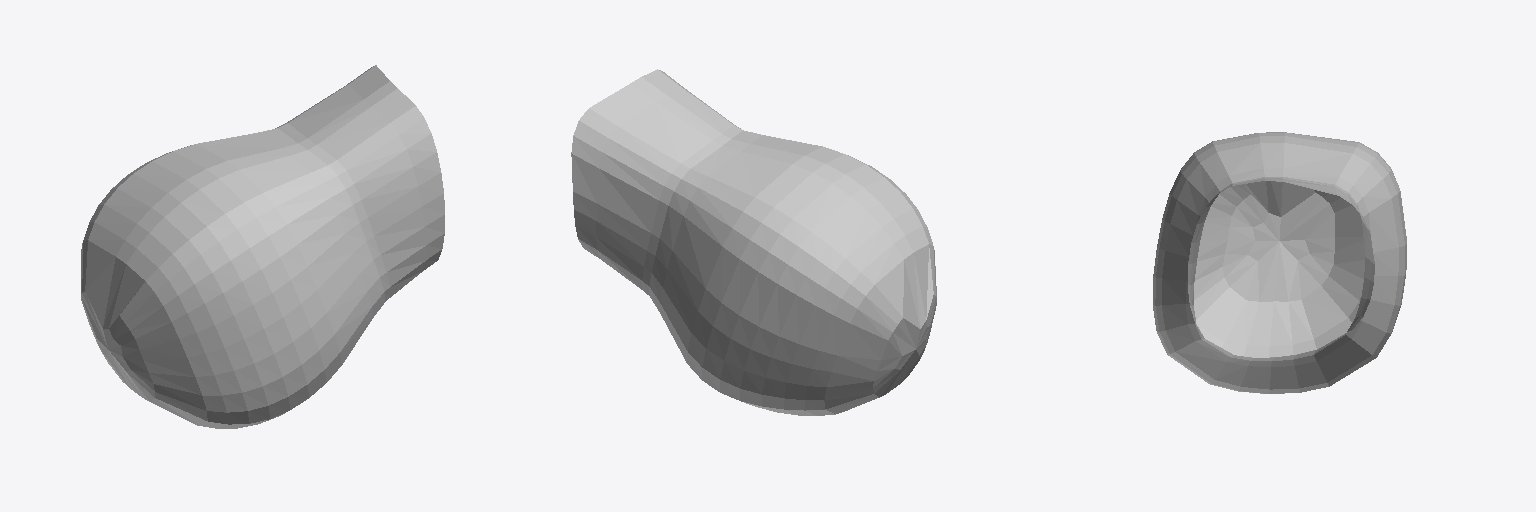
The model's file is brazoDerMel.obj.
3 views of the same model, side by side, from view 1: azimuth 30°, elevation 25°; view 2: azimuth 150°, elevation 25°; view 3: azimuth 270°, elevation 25° (orthographic).
Bounding box in the file's own units: 0.4754 × 0.4177 × 0.3428.